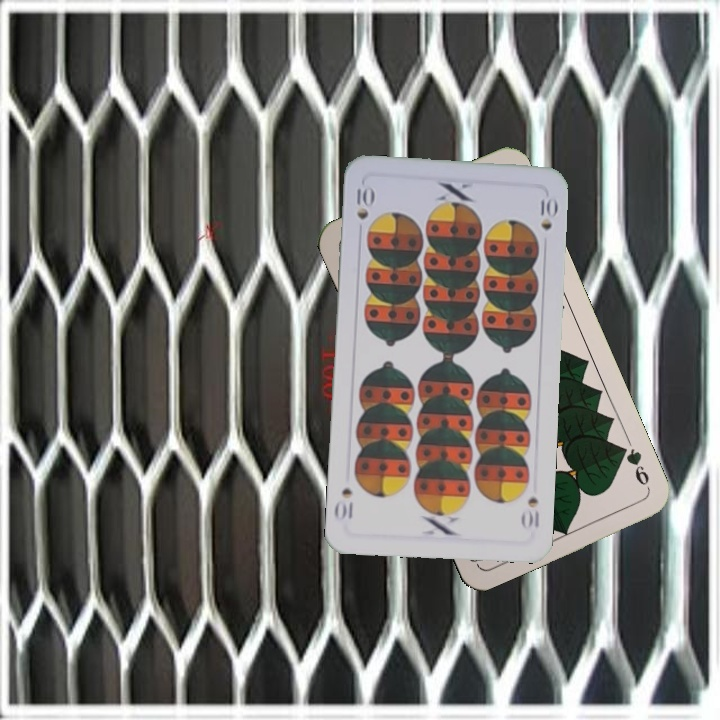G9: (614, 440, 652, 488)
S10: (518, 493, 542, 531), (353, 184, 374, 222)
